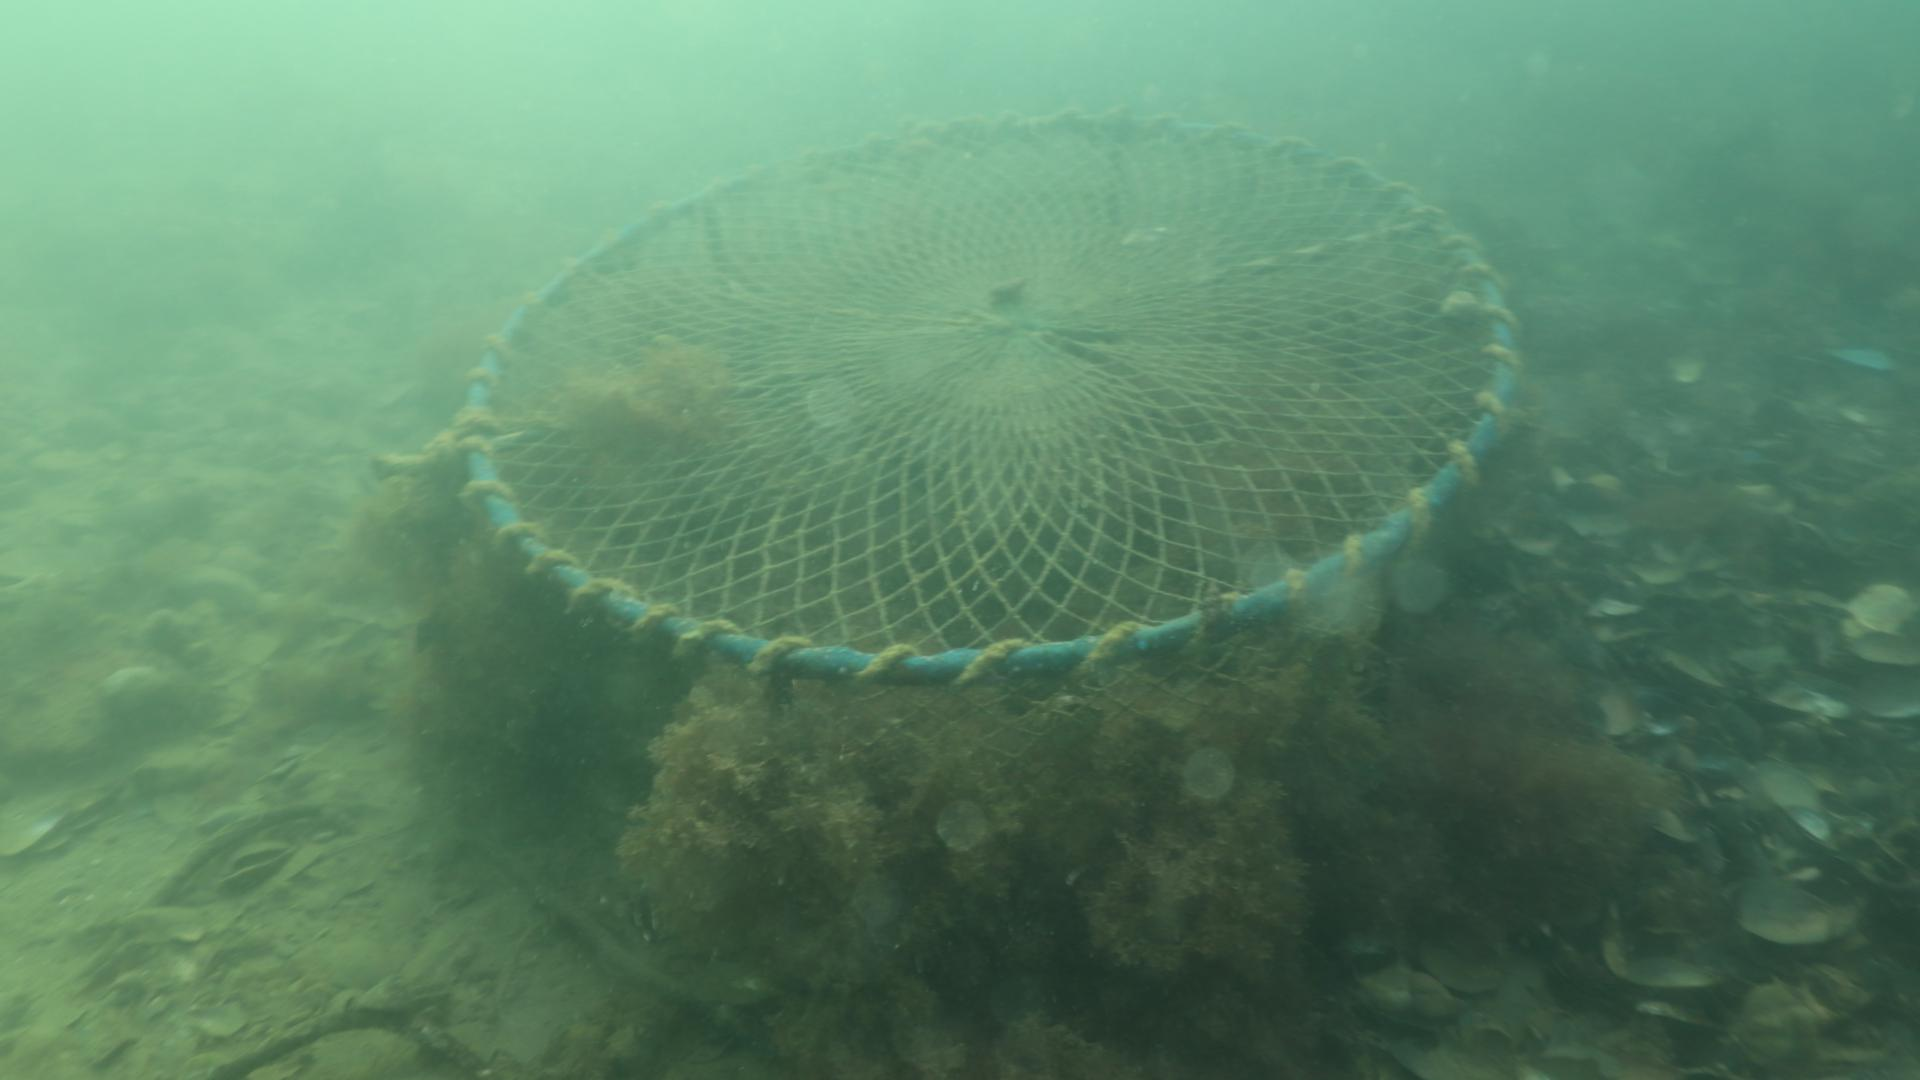circular fish trap: (459, 107, 1524, 775)
